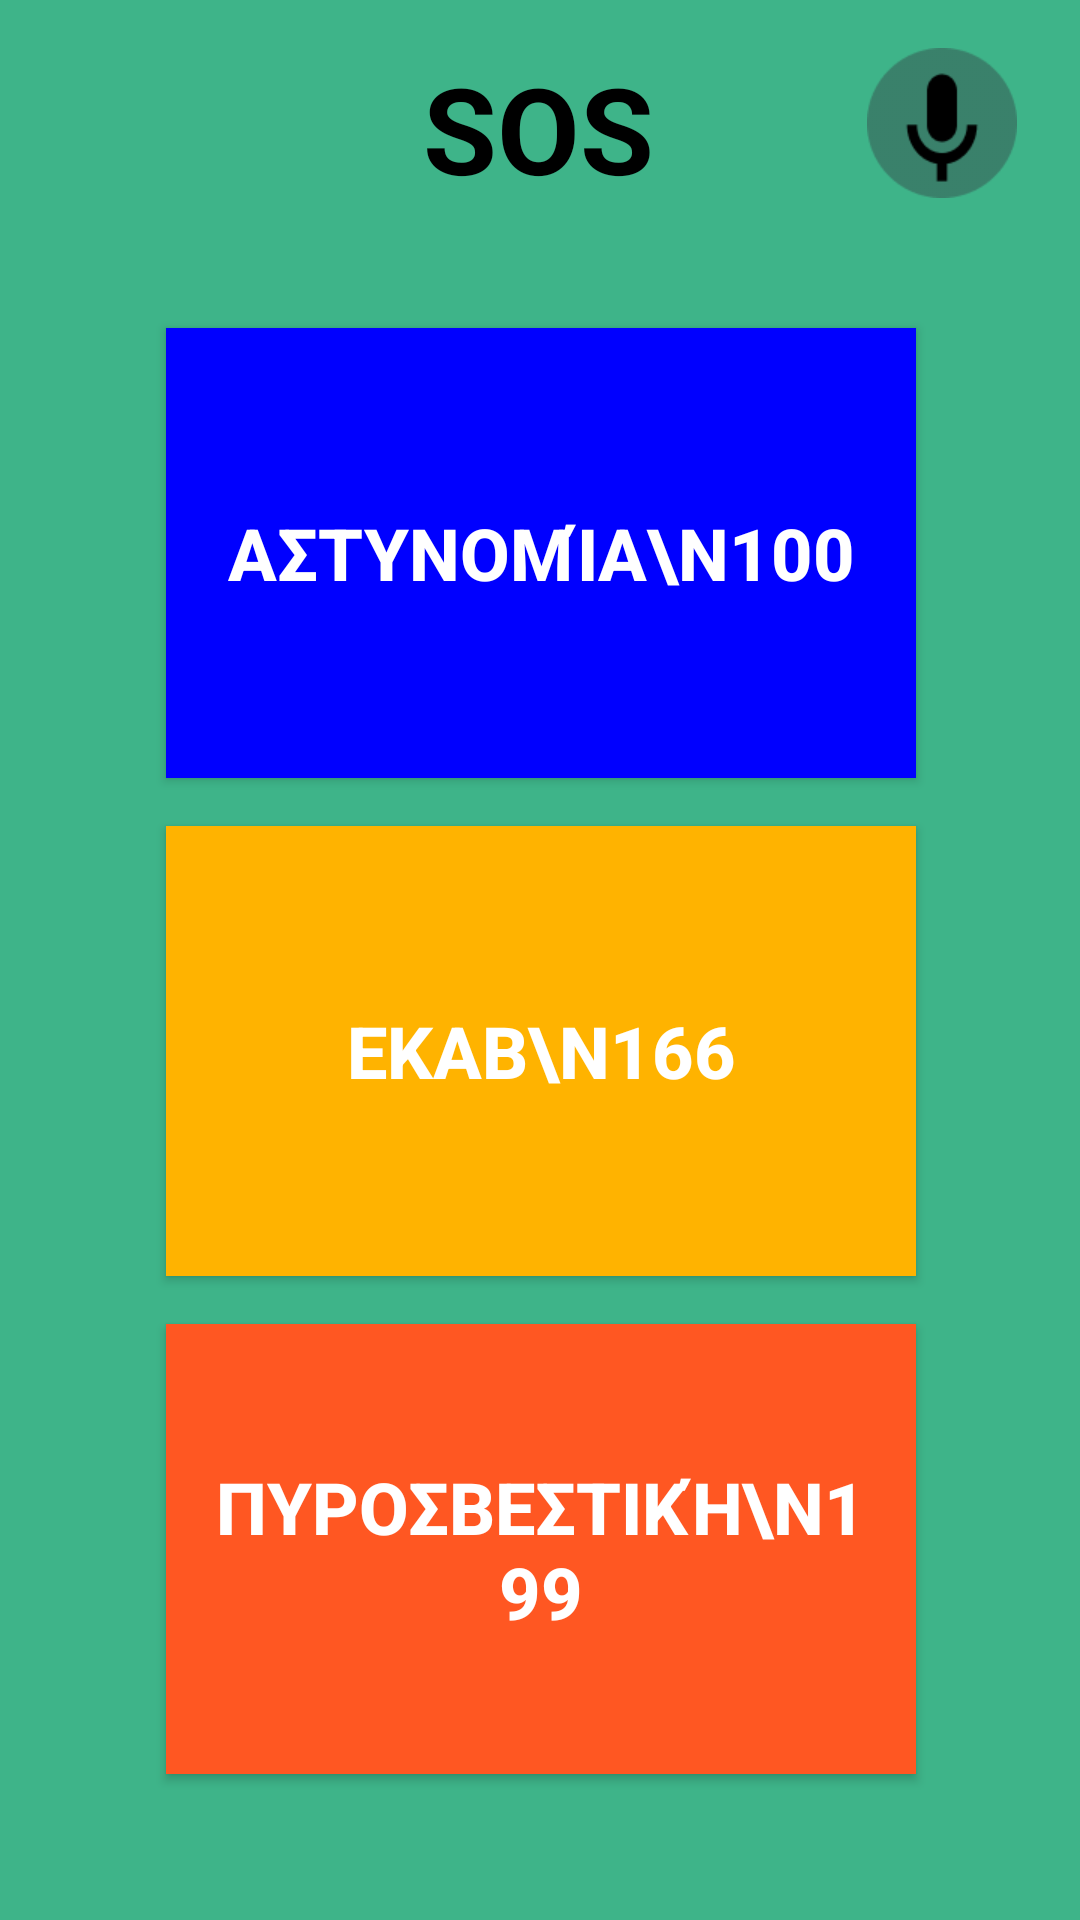

Icons on this 1080px×1920px Android screen, each with the point to tap as [x,y]:
Μικρόφωνο: [942,123]
